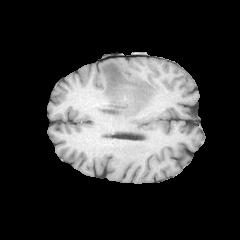glioma: (100, 61, 158, 119)
